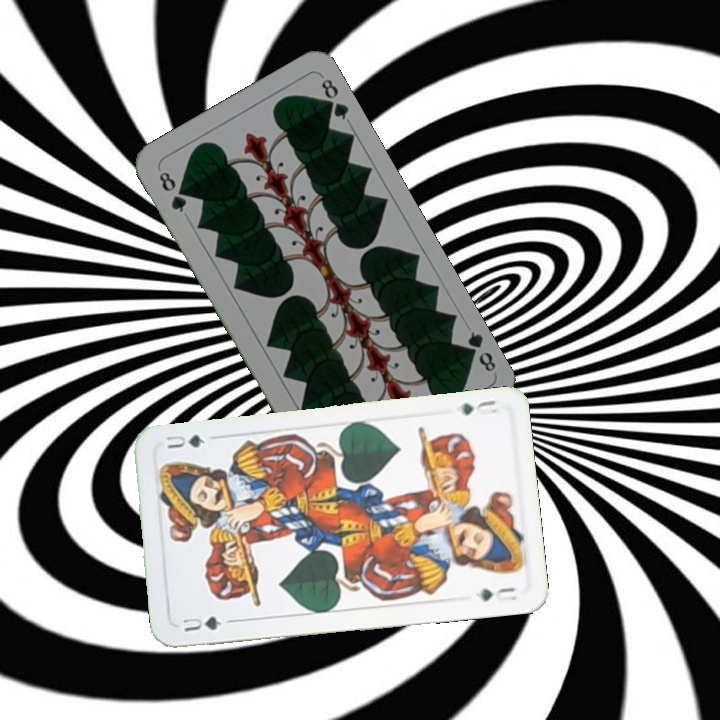G8: (458, 327, 499, 375), (154, 167, 190, 216)
GU: (178, 612, 224, 635), (456, 396, 501, 418)
